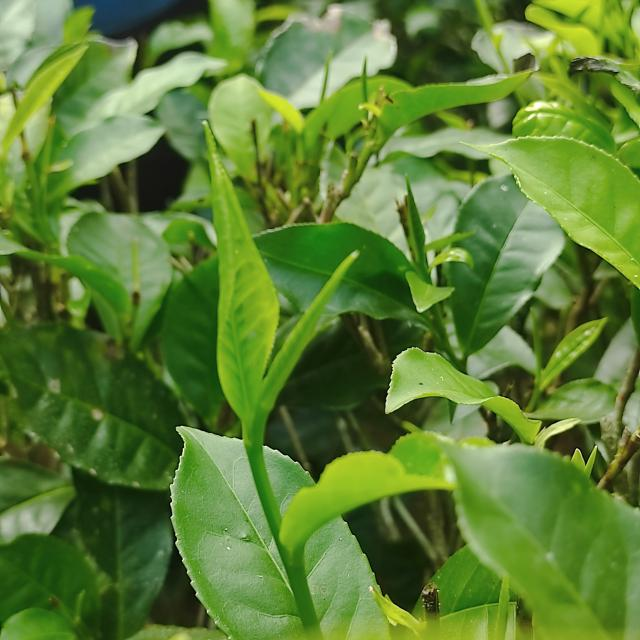unopened_leaf: (243, 244, 367, 456), (489, 557, 519, 640), (524, 304, 549, 398), (311, 42, 338, 112), (358, 49, 372, 115)
